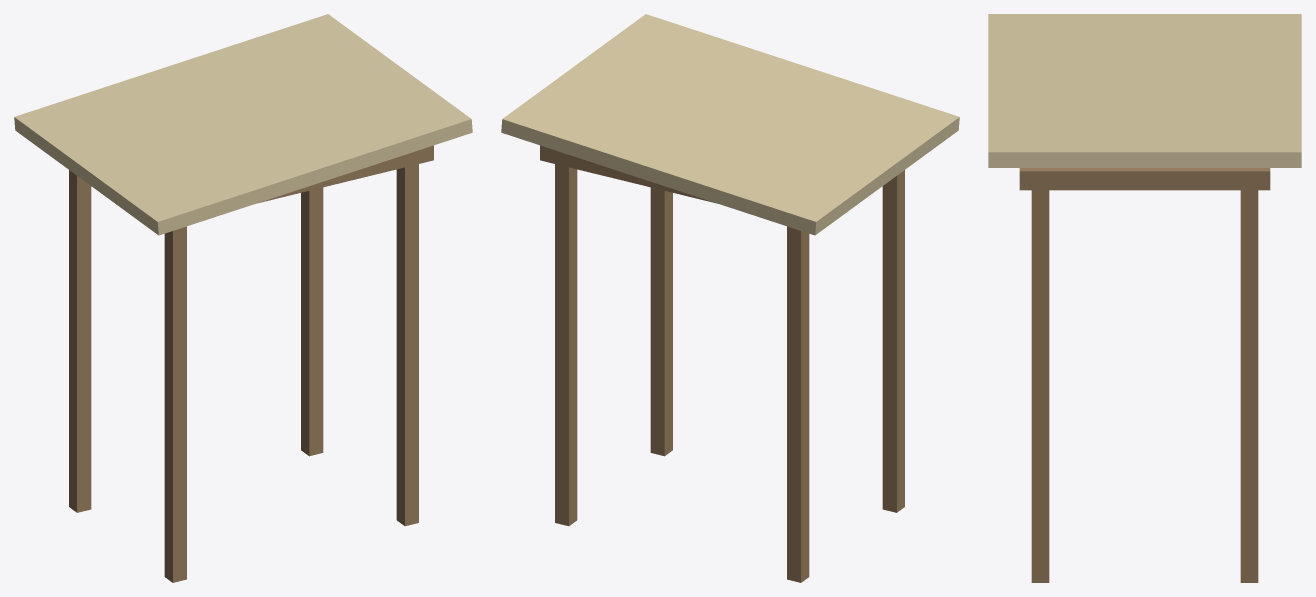
The model's file is zoo-and-safari-park-builder-shade-shelter-f2f0188b__21467.glb.
The picture shows the model from 3 angles, left to right: view 1: azimuth 30°, elevation 25°; view 2: azimuth 150°, elevation 25°; view 3: azimuth 270°, elevation 25°; orthographic projection. The views are drawn at different scales.
Visible parts, largest first — view 1: shade-shelter; view 2: shade-shelter; view 3: shade-shelter.
Part boxes in pixels (x1,y1,x2,y2): shade-shelter: [14, 14, 472, 582]; shade-shelter: [501, 14, 959, 582]; shade-shelter: [988, 14, 1301, 582].
Size of the model in its own units: 1.9 by 2.37 by 1.5.
